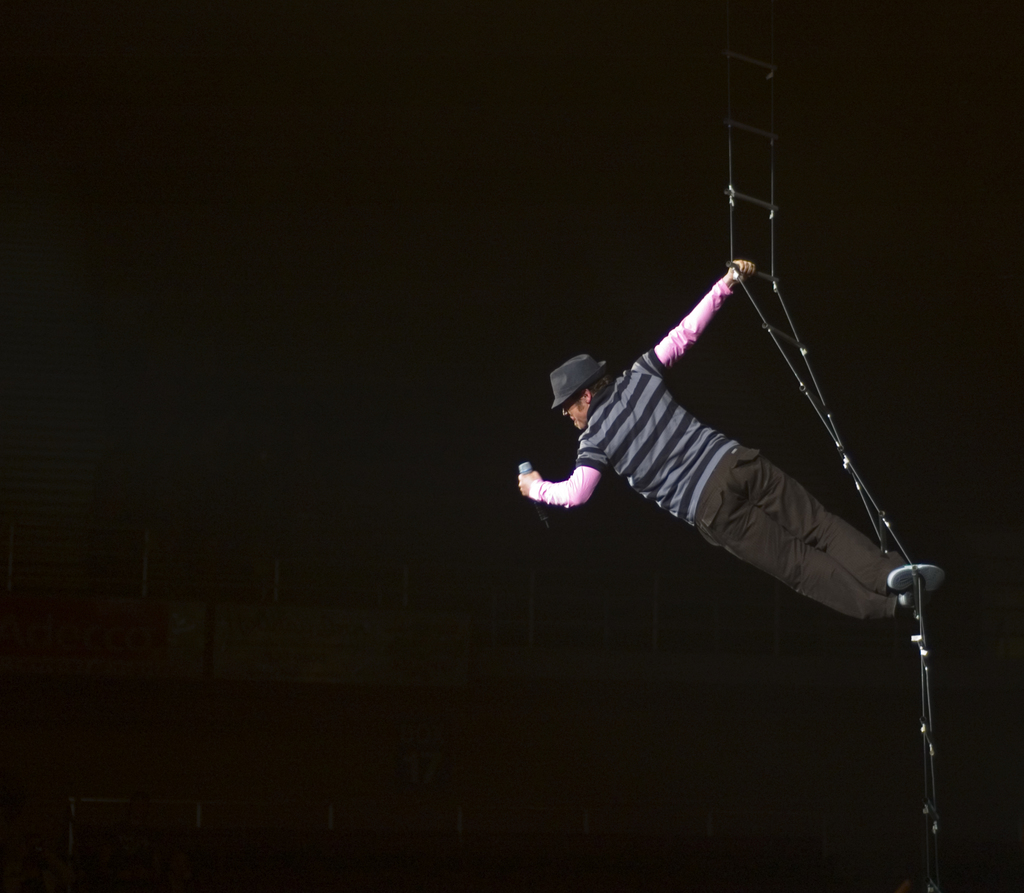Person: (518, 259, 944, 622)
